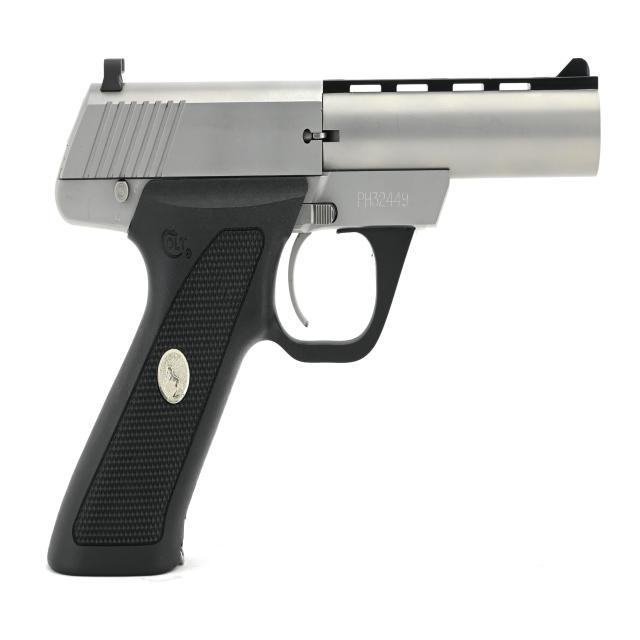Pistol: (33, 39, 617, 606)
